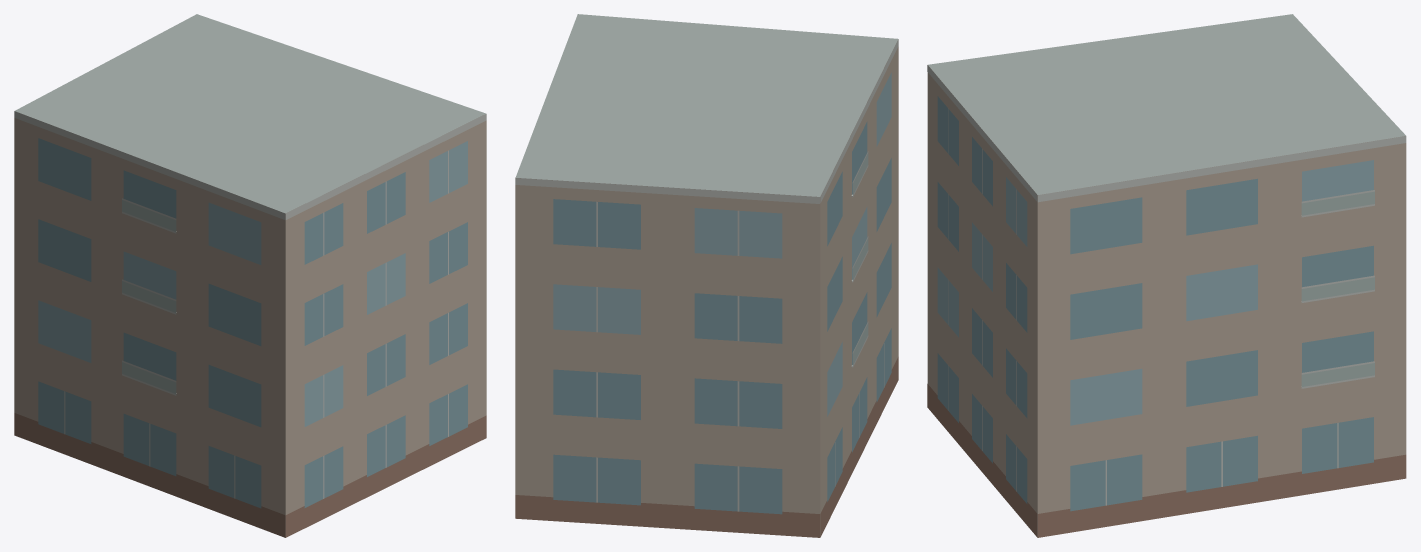
Rendered from survey-upis-32935474.glb.
The picture shows the model from 3 angles, left to right: view 1: azimuth 30°, elevation 25°; view 2: azimuth 150°, elevation 25°; view 3: azimuth 270°, elevation 25°; orthographic projection. The views are drawn at different scales.
Parts seen in each view (by area): view 1: survey-upis-32935474.tmp; view 2: survey-upis-32935474.tmp; view 3: survey-upis-32935474.tmp.
Boxes of the visible parts, bbox=[...] form: survey-upis-32935474.tmp: bbox=[14, 14, 486, 537]; survey-upis-32935474.tmp: bbox=[515, 14, 898, 537]; survey-upis-32935474.tmp: bbox=[927, 14, 1406, 537].
Size of the model in its own units: 13.26 by 11.69 by 14.81.
